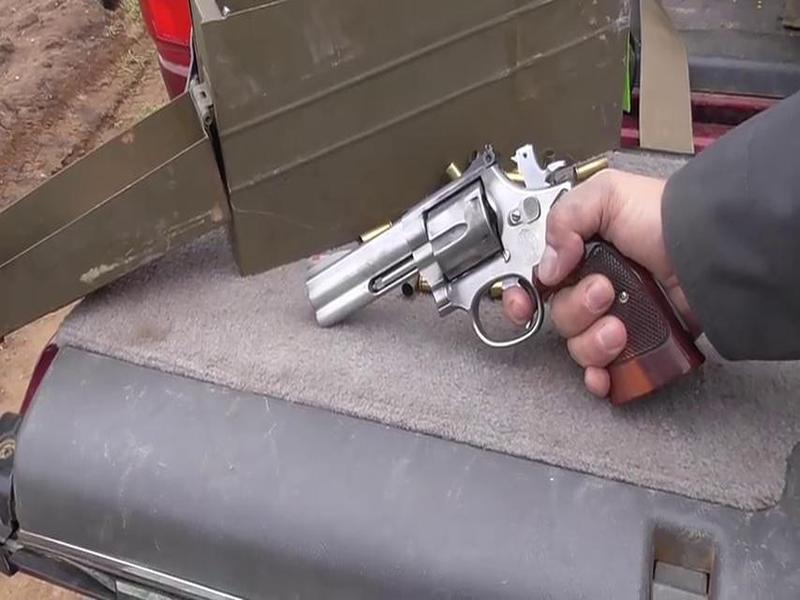Revolver: (301, 128, 721, 450)
